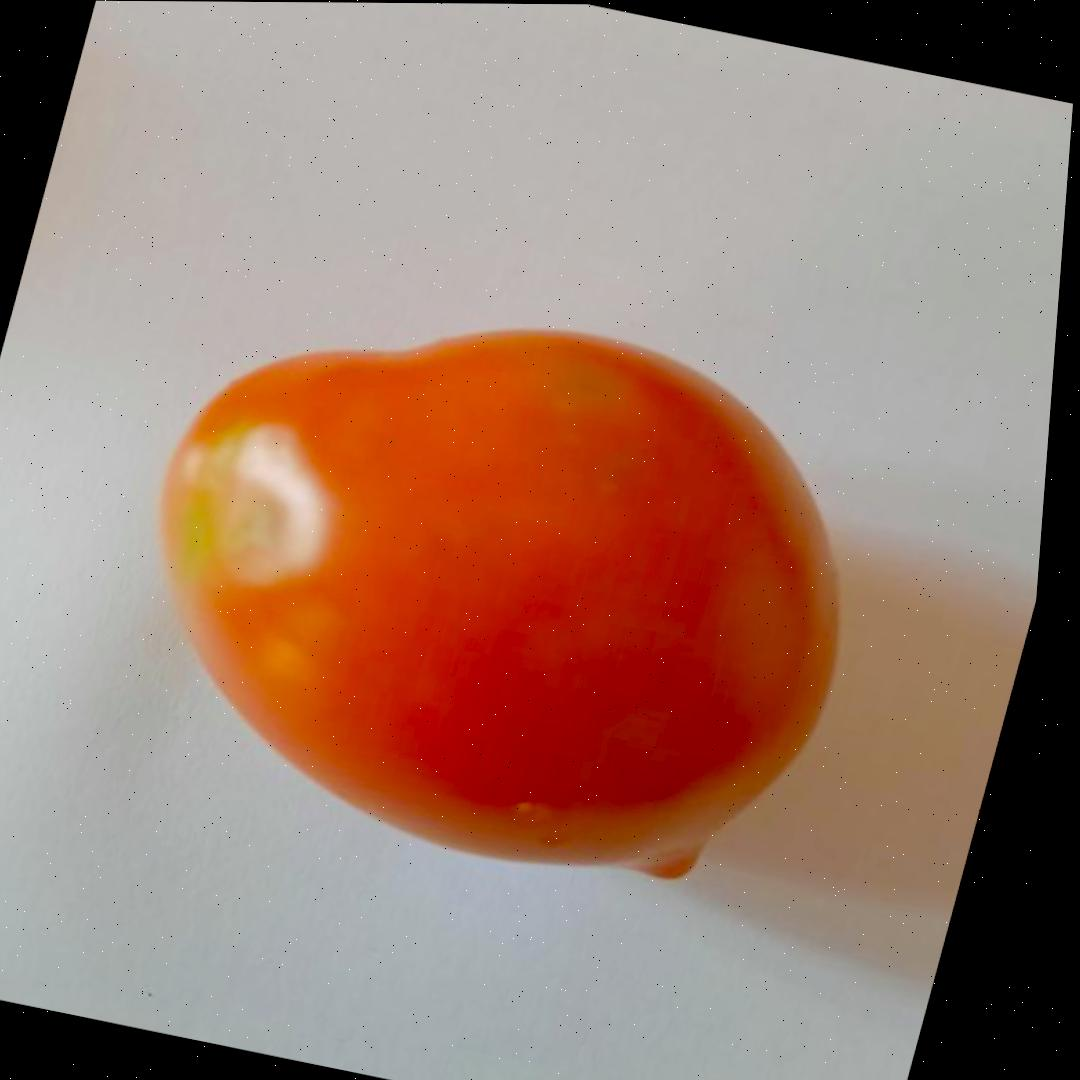matang: (71, 256, 922, 920)
